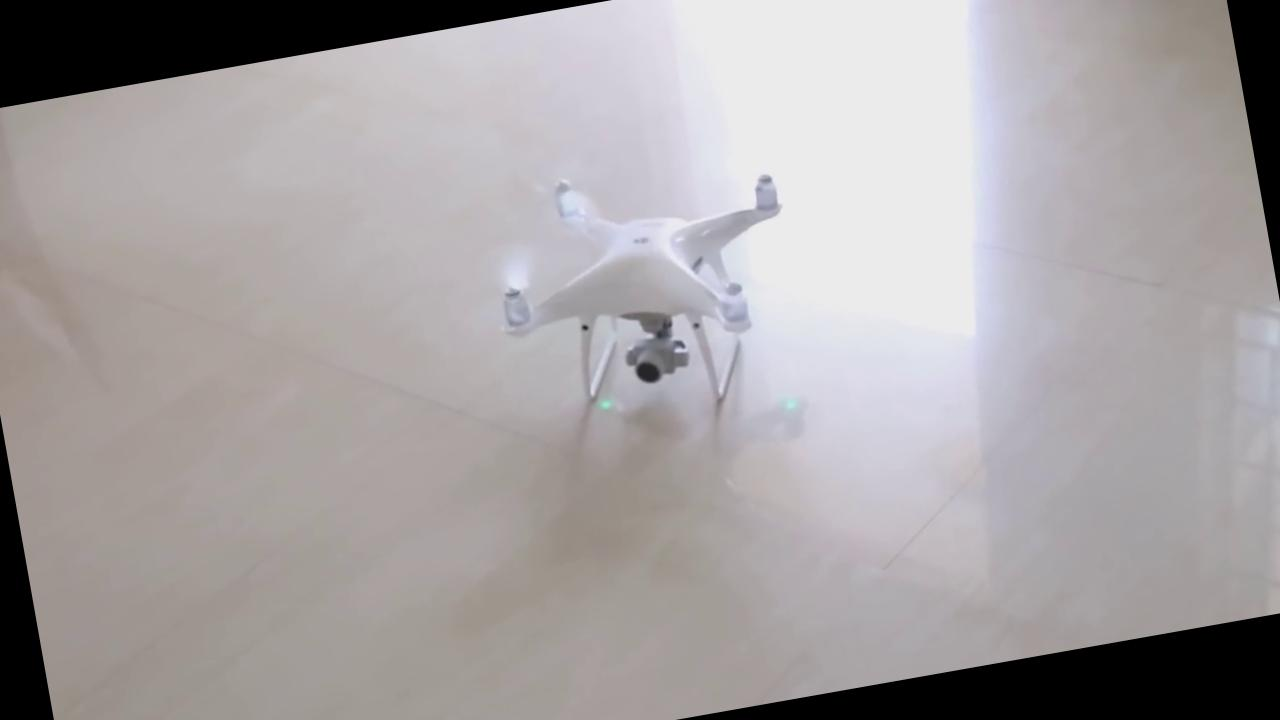drone: (464, 135, 816, 379)
